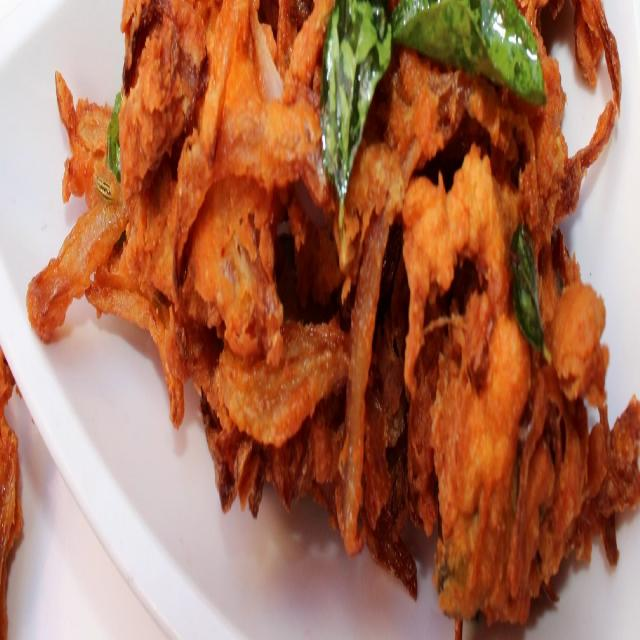Onion Pakora: (27, 0, 640, 640)
